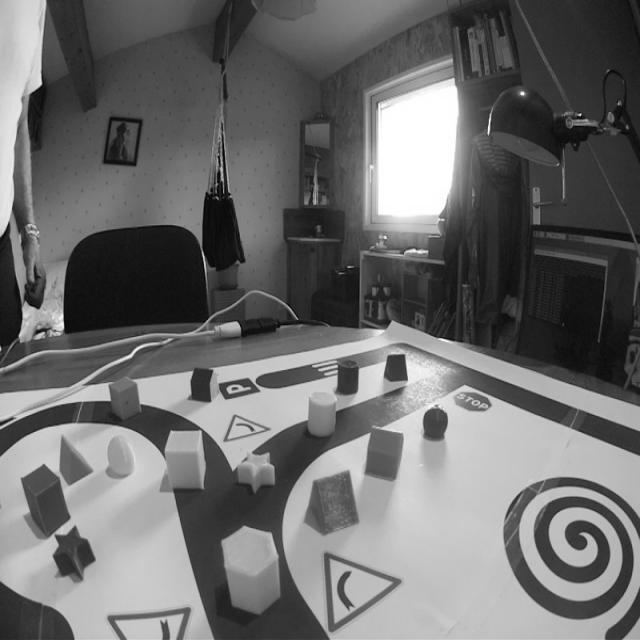ball: (101, 433, 140, 480), (420, 402, 451, 442)
cube: (17, 460, 73, 540), (160, 425, 210, 496), (107, 373, 144, 423)
cylinder: (306, 386, 339, 444), (335, 354, 361, 400)
hexagon: (217, 520, 284, 620)
home: (363, 422, 406, 484), (188, 364, 221, 406)
nest: (497, 467, 640, 640)
star: (49, 522, 100, 591), (235, 446, 278, 495)
triangle: (303, 466, 362, 540), (383, 350, 411, 385)
